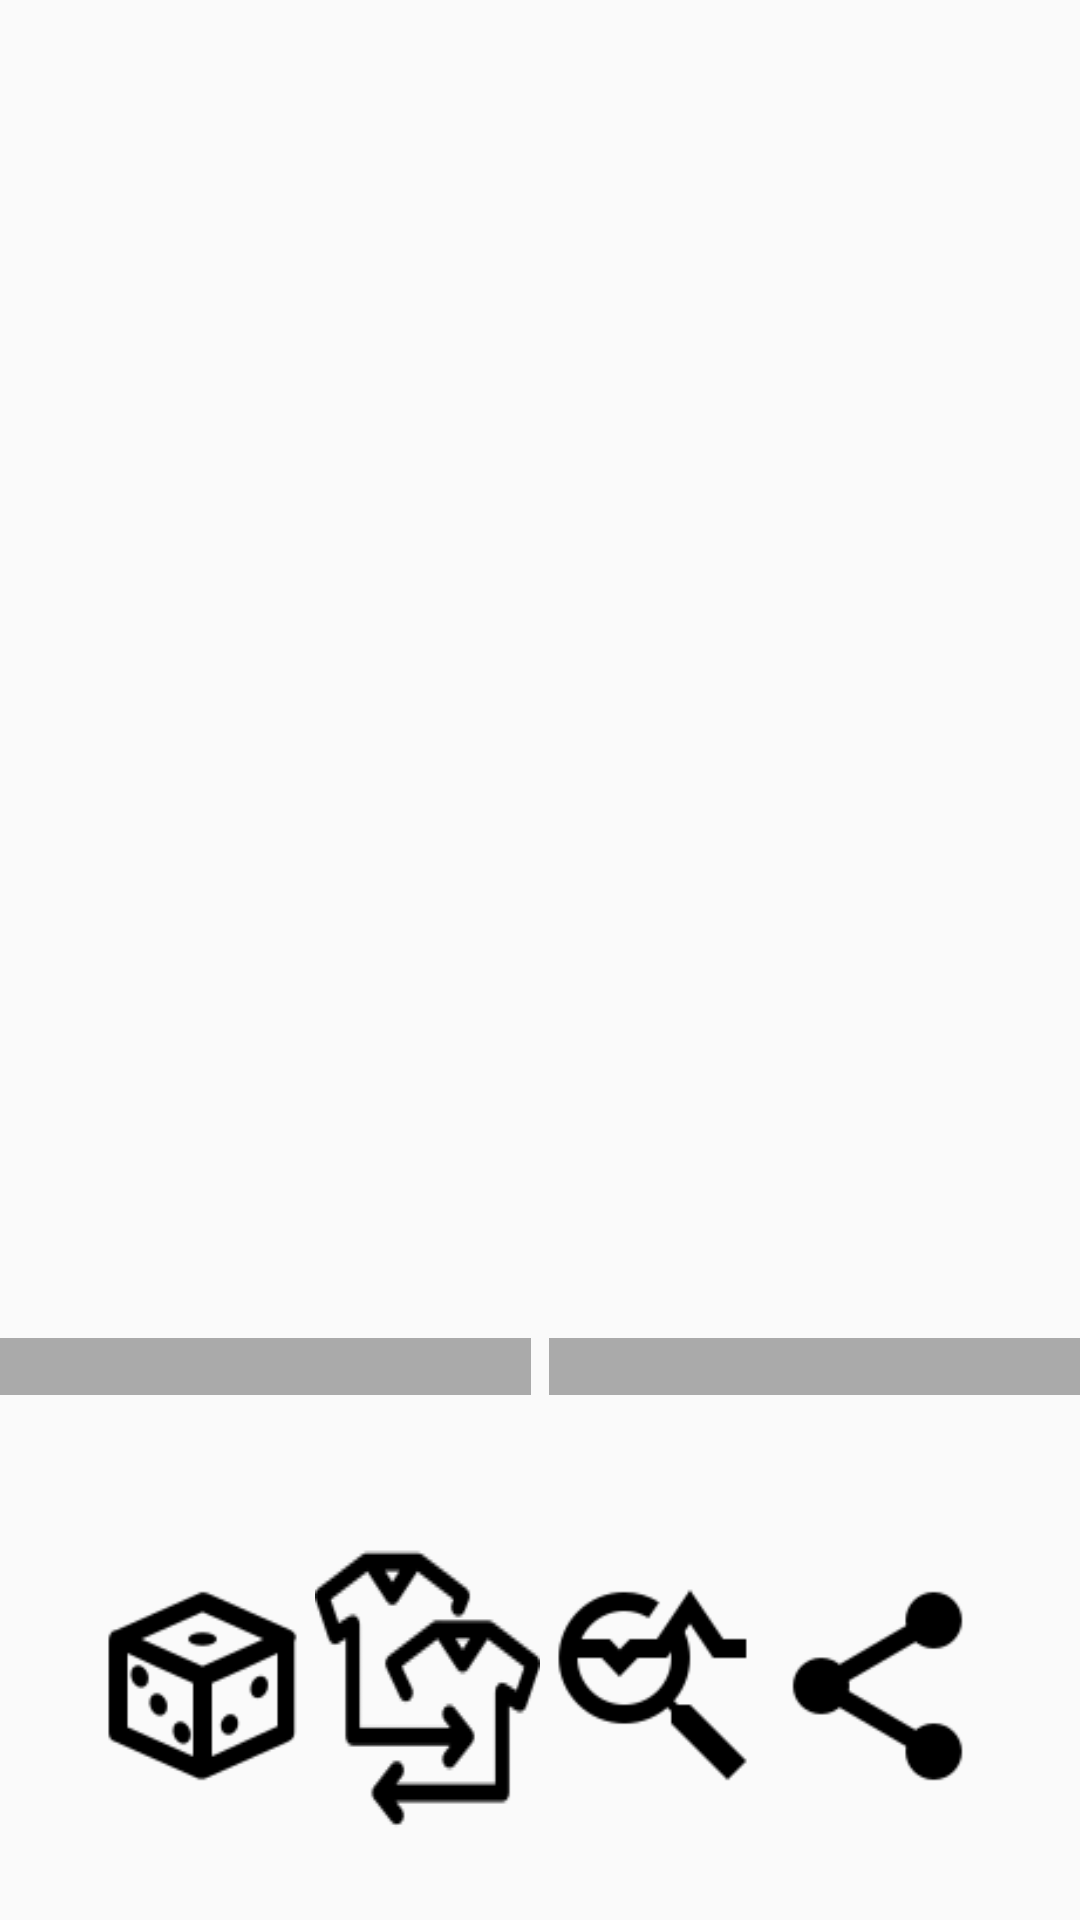

Where to tap for icons on this 1080px x 1920px app screen, as [x,y]:
analysis: [652,1685]
shuffle: [202,1686]
